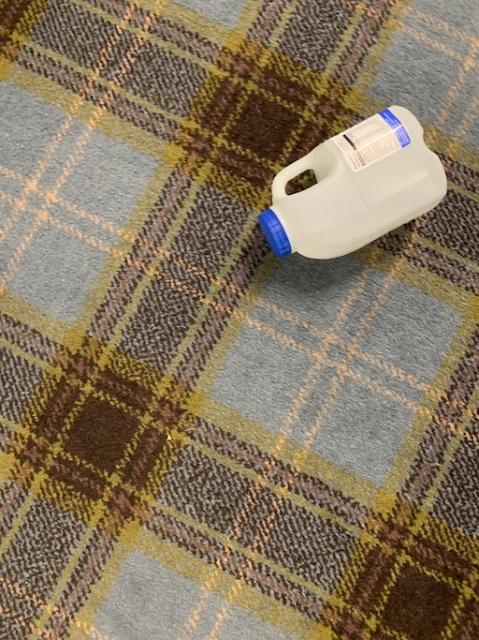plastic: (259, 105, 445, 257)
